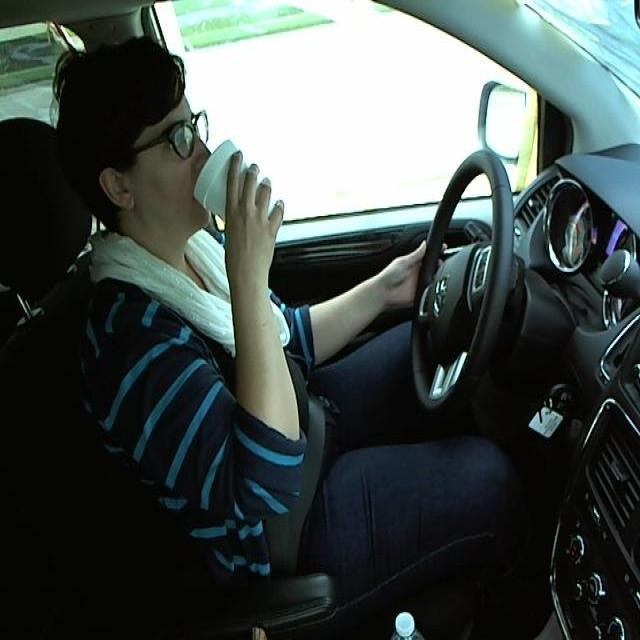drinking: (192, 136, 286, 244)
